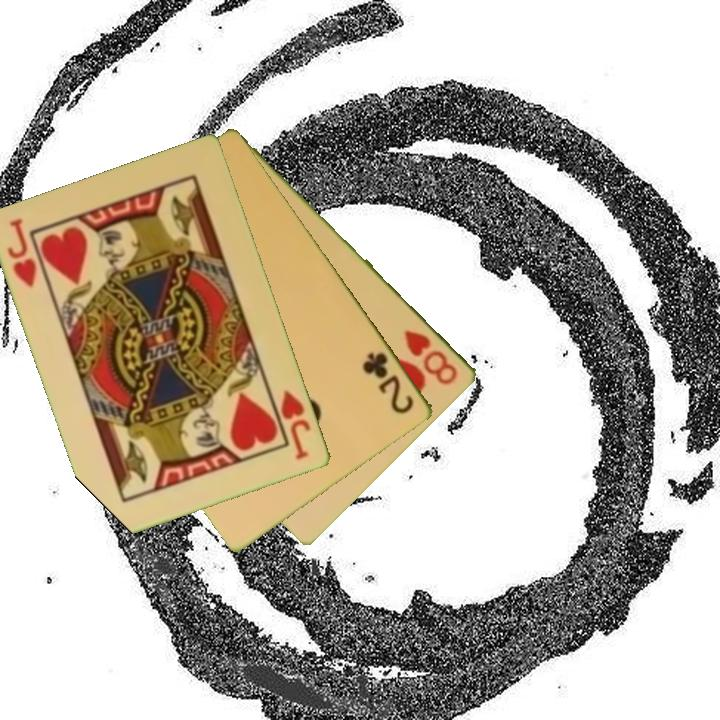2c: (359, 348, 418, 417)
8h: (401, 327, 461, 388)
Jh: (267, 386, 315, 463), (4, 215, 40, 291)
